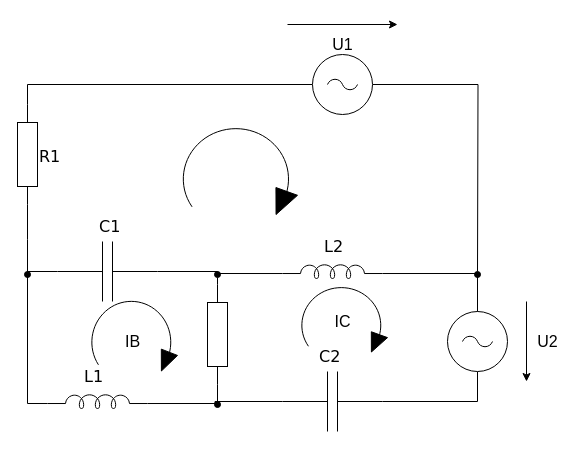
This 585x449 diagram has some shape labels left out. Each missing label, with the box of its shape:
IA: (176, 124, 298, 214)
R2: (206, 284, 228, 384)
